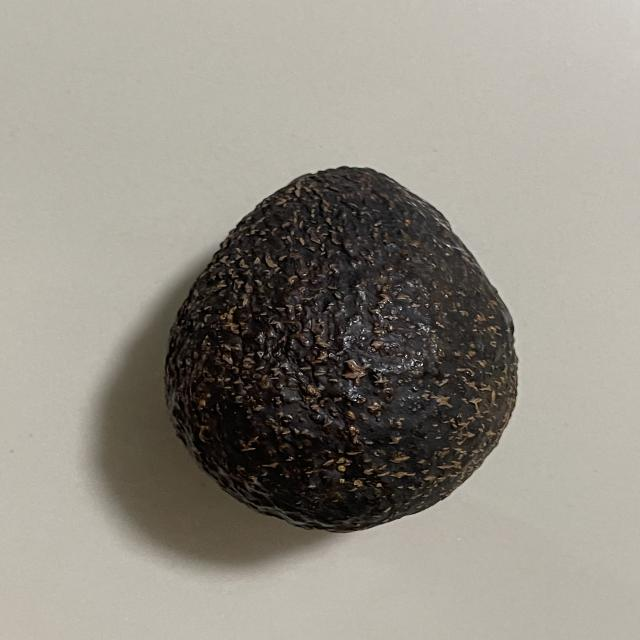Level3: (154, 160, 528, 540)
